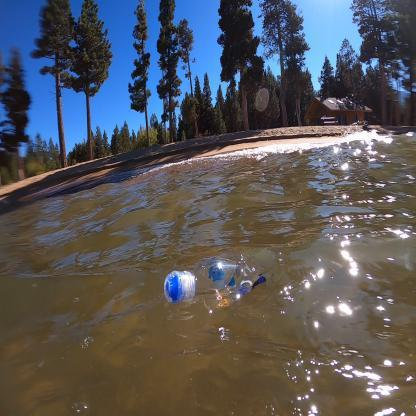Rác: (146, 243, 294, 304)
